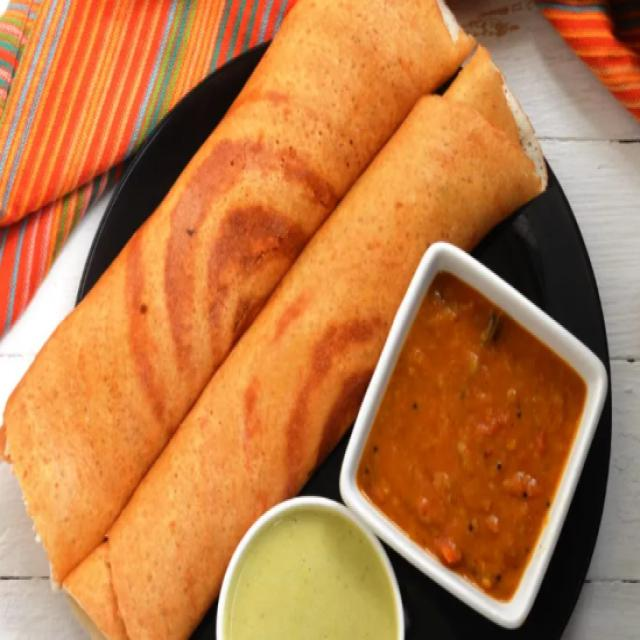DOSA: (3, 0, 540, 638)
SAMBAR: (345, 262, 596, 629)
WHITE CHUTNEY: (229, 504, 403, 638)
